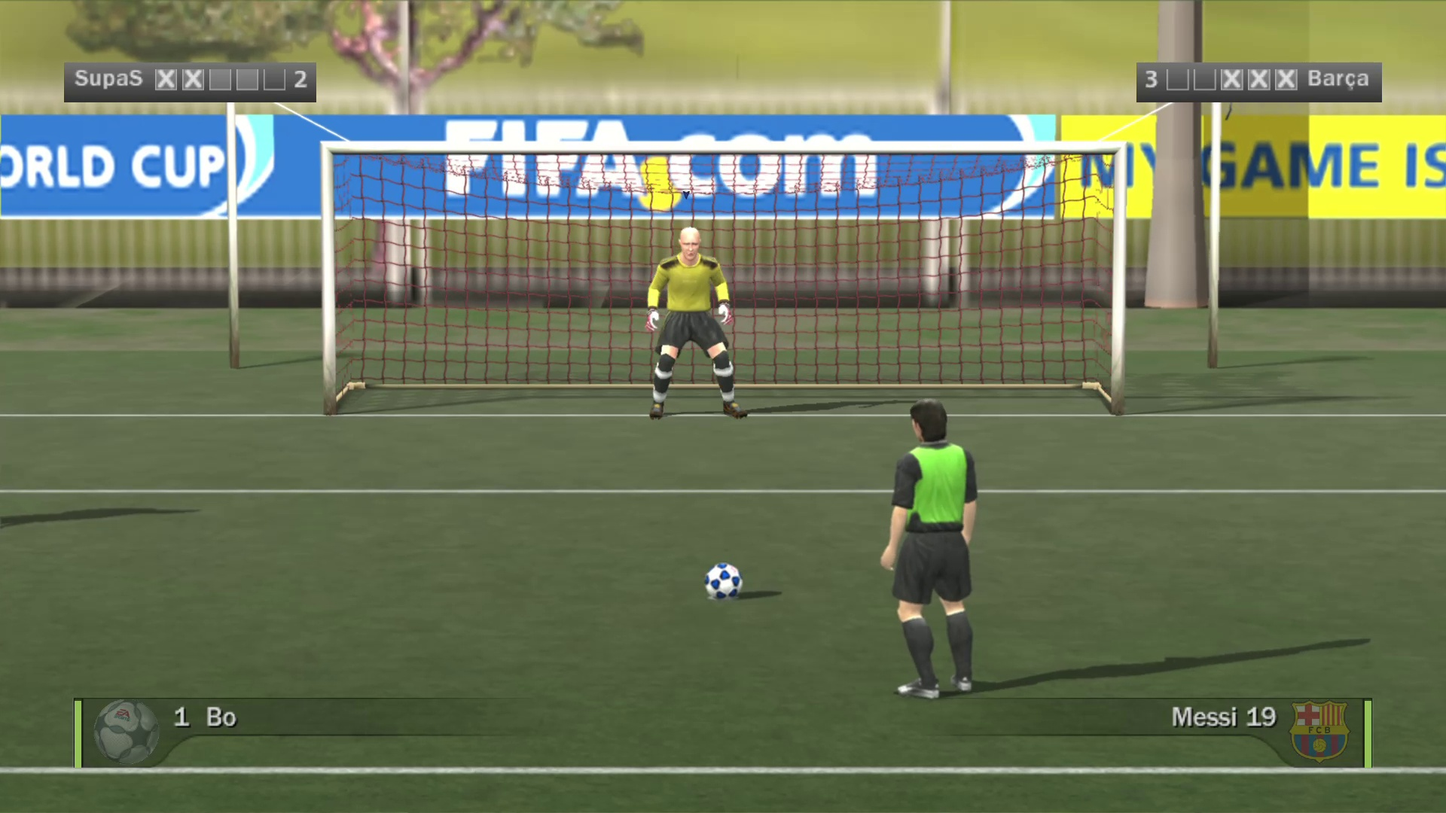ball: (676, 532, 725, 578)
goal_post: (0, 34, 719, 279)
keeper: (585, 123, 699, 327)
kicker: (845, 251, 934, 550)
